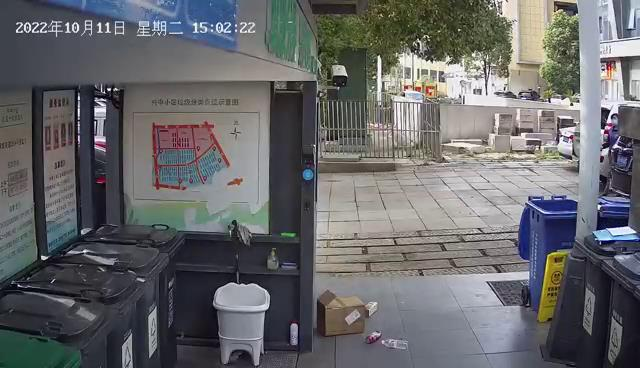lvzhipin: (364, 328, 384, 345)
suliaozhipin: (379, 338, 412, 354), (363, 298, 379, 318)
zhizhipin: (315, 285, 371, 338), (313, 286, 369, 339)
